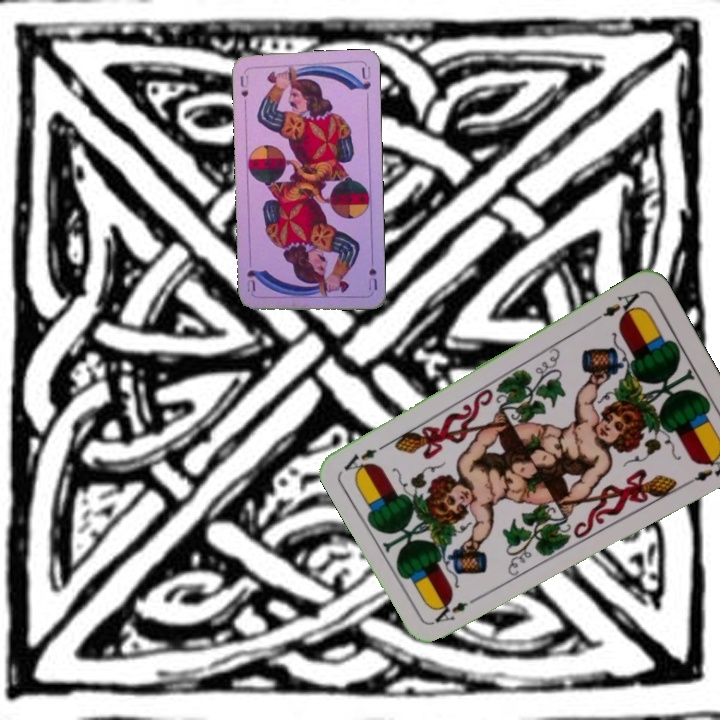EA: (591, 287, 644, 324), (431, 591, 484, 625)
SU: (364, 252, 380, 293), (236, 67, 251, 99)
